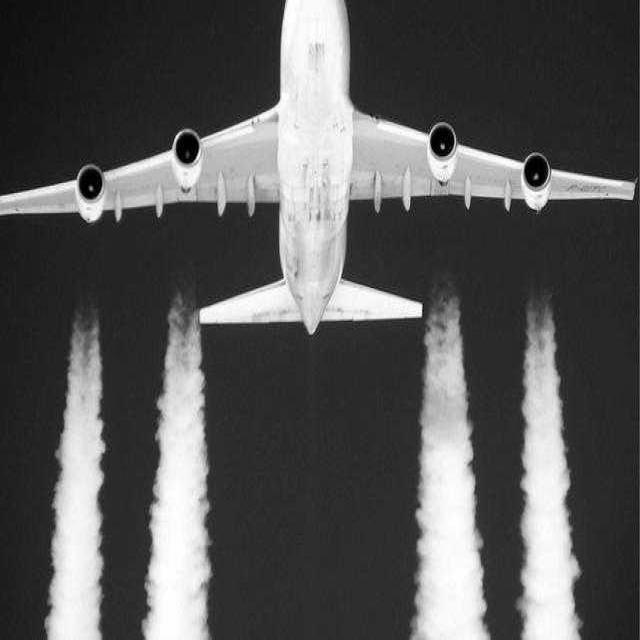Aircraft: (10, 6, 640, 345)
